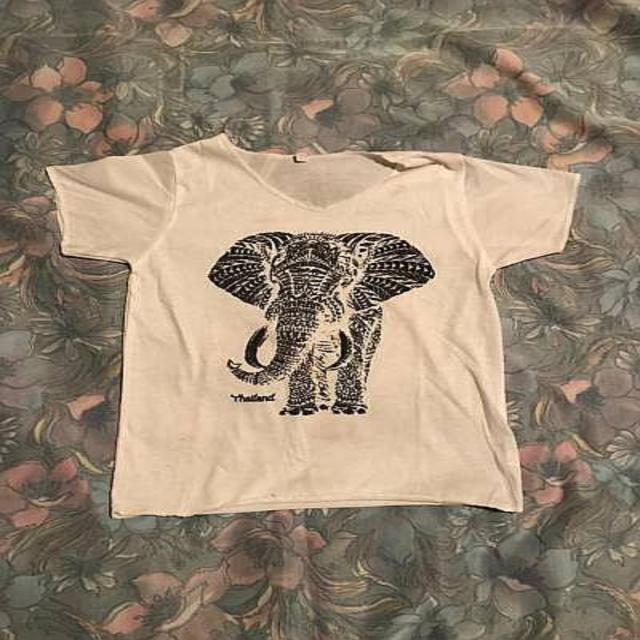T_SHIRT: (36, 125, 590, 522)
